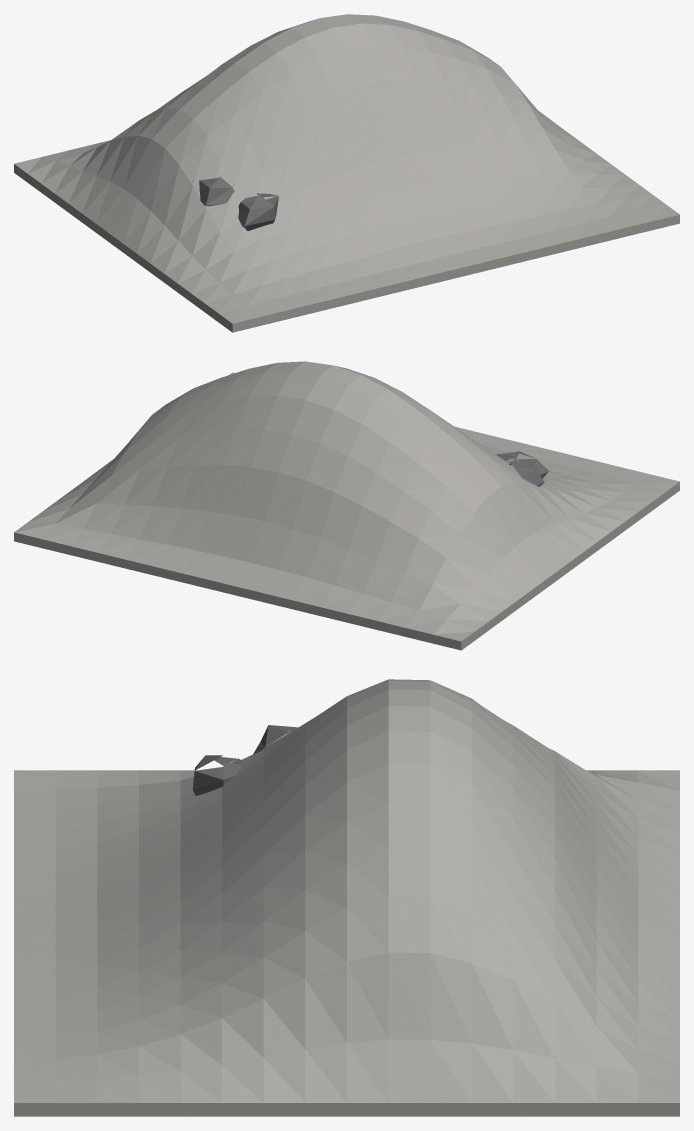
The model's file is volcano-and-lava-fields-volcano-and-lava-fields-ash-dr-9e378102__37469.glb.
3 views of the same model, one above another, from view 1: azimuth 30°, elevation 25°; view 2: azimuth 150°, elevation 25°; view 3: azimuth 270°, elevation 25° (orthographic). The views are drawn at different scales.
Parts seen in each view (by area): view 1: volcano-and-lava-fields-ash-drift; view 2: volcano-and-lava-fields-ash-drift; view 3: volcano-and-lava-fields-ash-drift.
Part boxes in pixels (x1,y1,x2,y2): volcano-and-lava-fields-ash-drift: (14,14,679,332); volcano-and-lava-fields-ash-drift: (14,361,679,650); volcano-and-lava-fields-ash-drift: (14,679,679,1116).
Bounding box in the file's own units: 2.6 × 0.8916 × 2.2.
2 materials, 2 textured.
